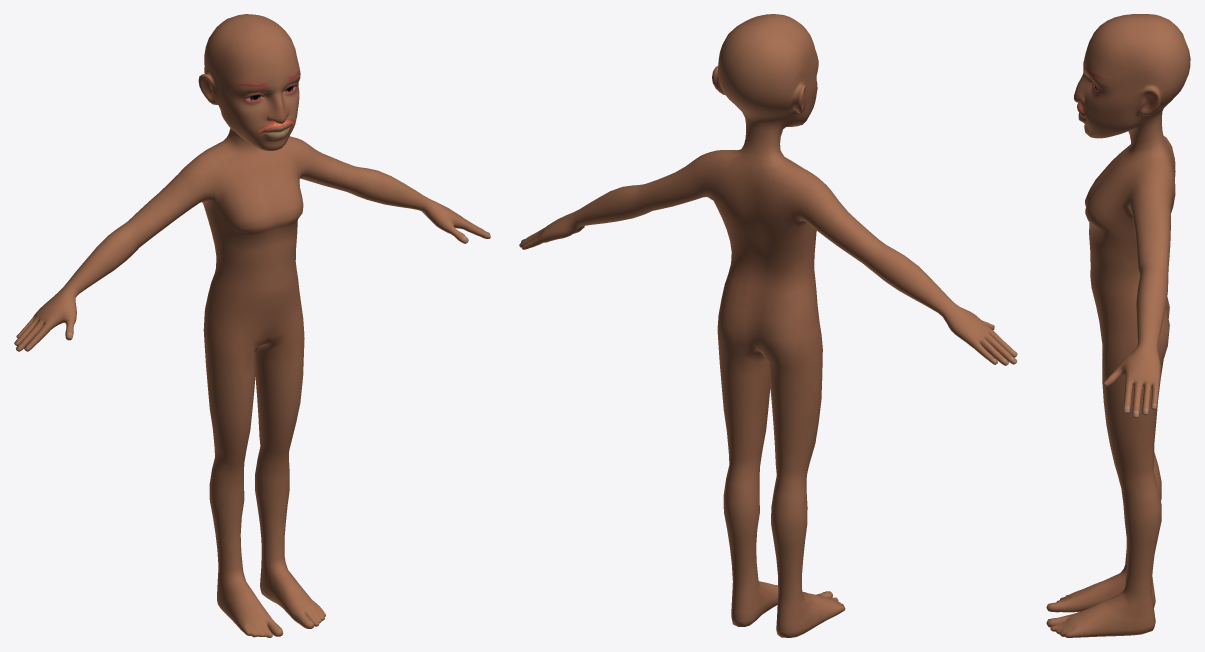
File: frame_0092.glb
3 views of the same model, side by side, from view 1: azimuth 30°, elevation 25°; view 2: azimuth 150°, elevation 25°; view 3: azimuth 270°, elevation 25° (orthographic). The views are drawn at different scales.
Parts seen in each view (by area): view 1: frame_0092_head_geo; view 2: frame_0092_head_geo; view 3: frame_0092_head_geo.
Boxes of the visible parts, bbox=[...] form: frame_0092_head_geo: bbox=[14, 14, 490, 637]; frame_0092_head_geo: bbox=[519, 14, 1017, 637]; frame_0092_head_geo: bbox=[1046, 14, 1190, 637].
Size of the model in its own units: 1.28 by 1.5 by 0.3253.
3 materials, 3 textured.
